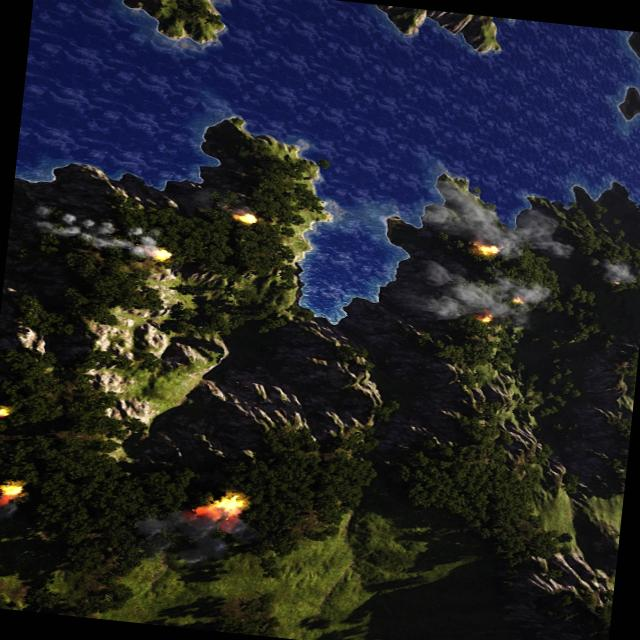fire: (194, 490, 250, 523), (0, 479, 23, 506), (475, 242, 500, 257), (235, 212, 256, 226), (149, 248, 169, 262), (474, 308, 494, 322), (0, 404, 11, 420), (511, 294, 524, 306)
smoke: (417, 186, 579, 266), (414, 264, 554, 330), (129, 506, 258, 572), (22, 200, 165, 258), (594, 259, 633, 286)
